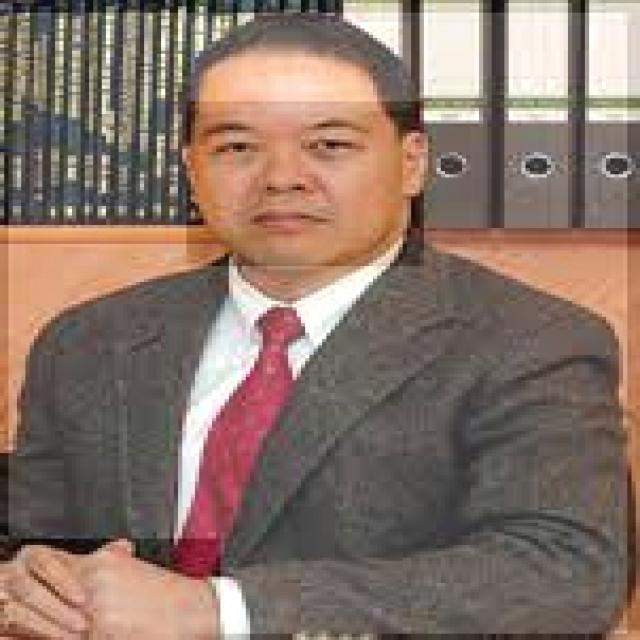face_nomask: (182, 102, 424, 270)
hand_noglove: (4, 538, 220, 636)
head_nohelmet: (191, 11, 415, 100)
person: (5, 13, 628, 637)
